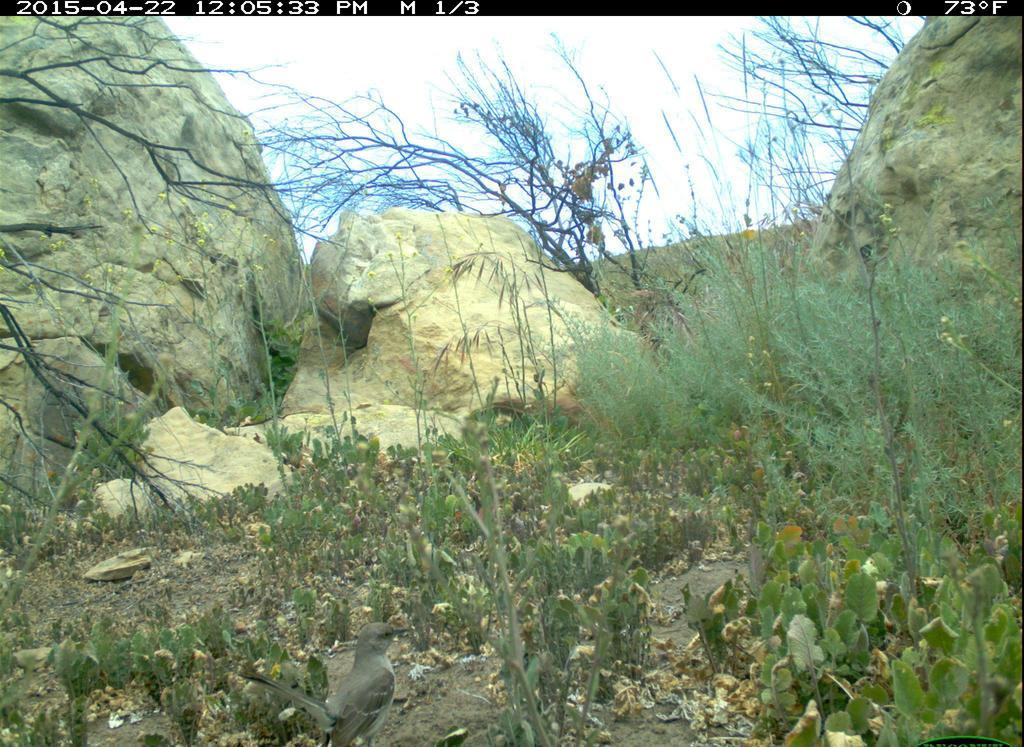bird: (232, 614, 425, 747)
